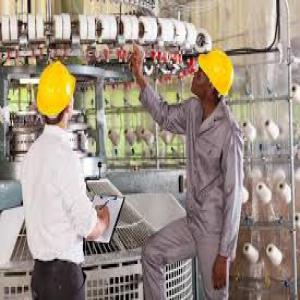yellow: (36, 60, 77, 131), (190, 50, 233, 109)
